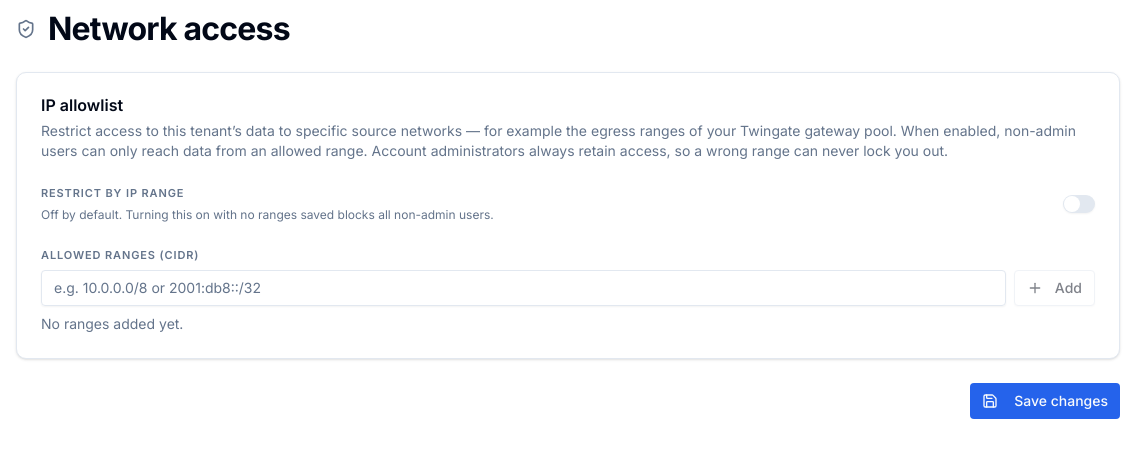
Scenario: NetworkAccessPage › disables Add and shows an error for an invalid CIDR
Type "nope" into the field with test id "cidr-input" at coordinates (523, 288), box [41, 270, 1006, 306]
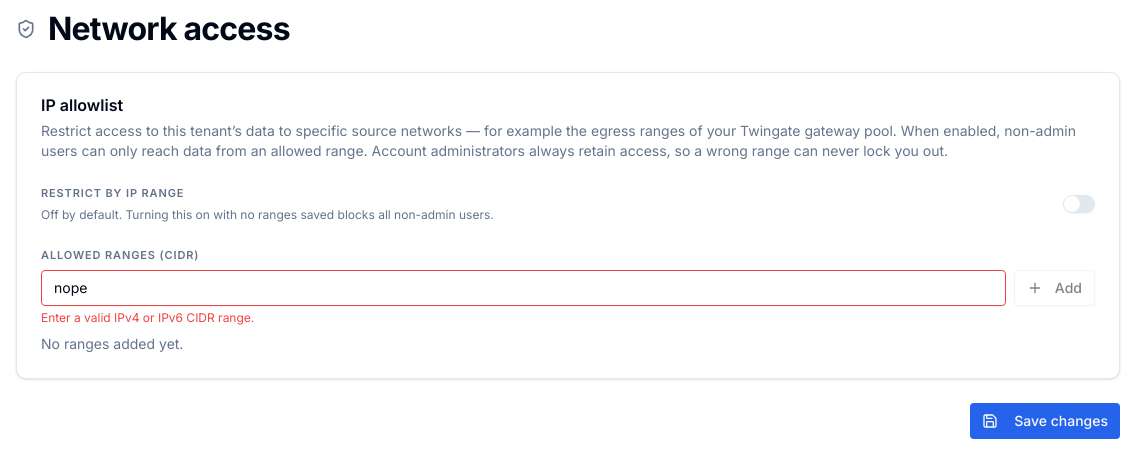
Expected: the button with test id "add-cidr" is disabled, [1014, 270, 1095, 306]
Expected: the text "Enter a valid IPv4 or IPv6 CIDR range." is shown, [41, 310, 254, 325]
